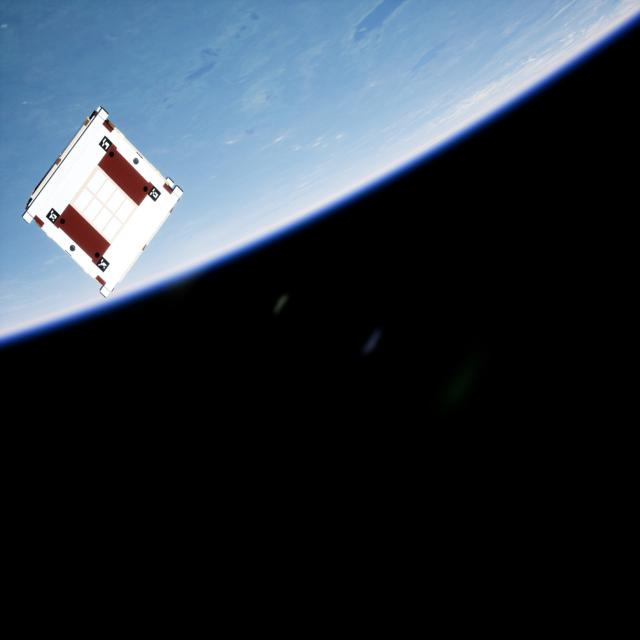satellite: (22, 105, 188, 297)
